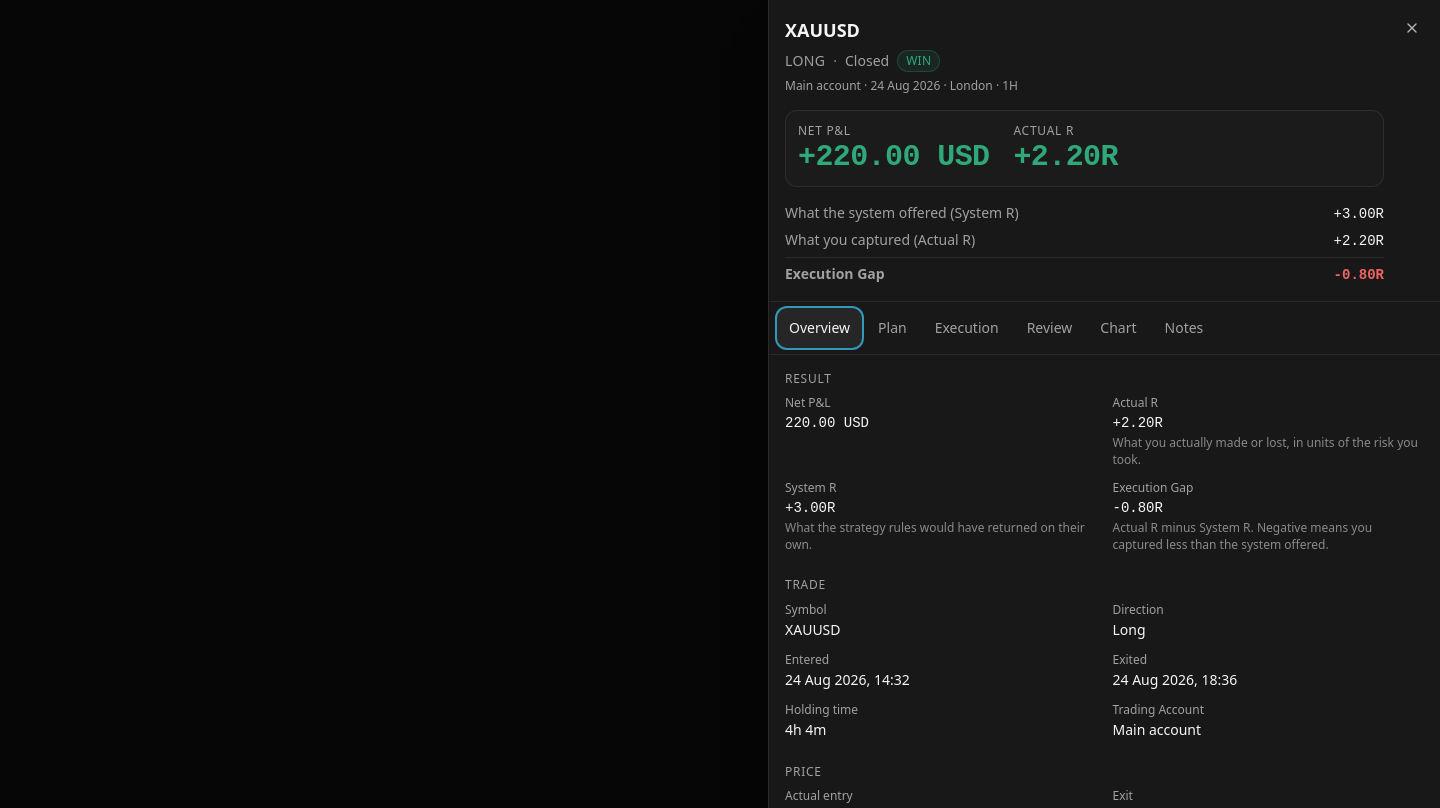
Trade Details — Chart and Notes › says what a Chart tab would hold when there is nothing attached
The image size is (1440, 808).
Click the tab "Chart": (1118, 328) [1088, 308, 1148, 348]
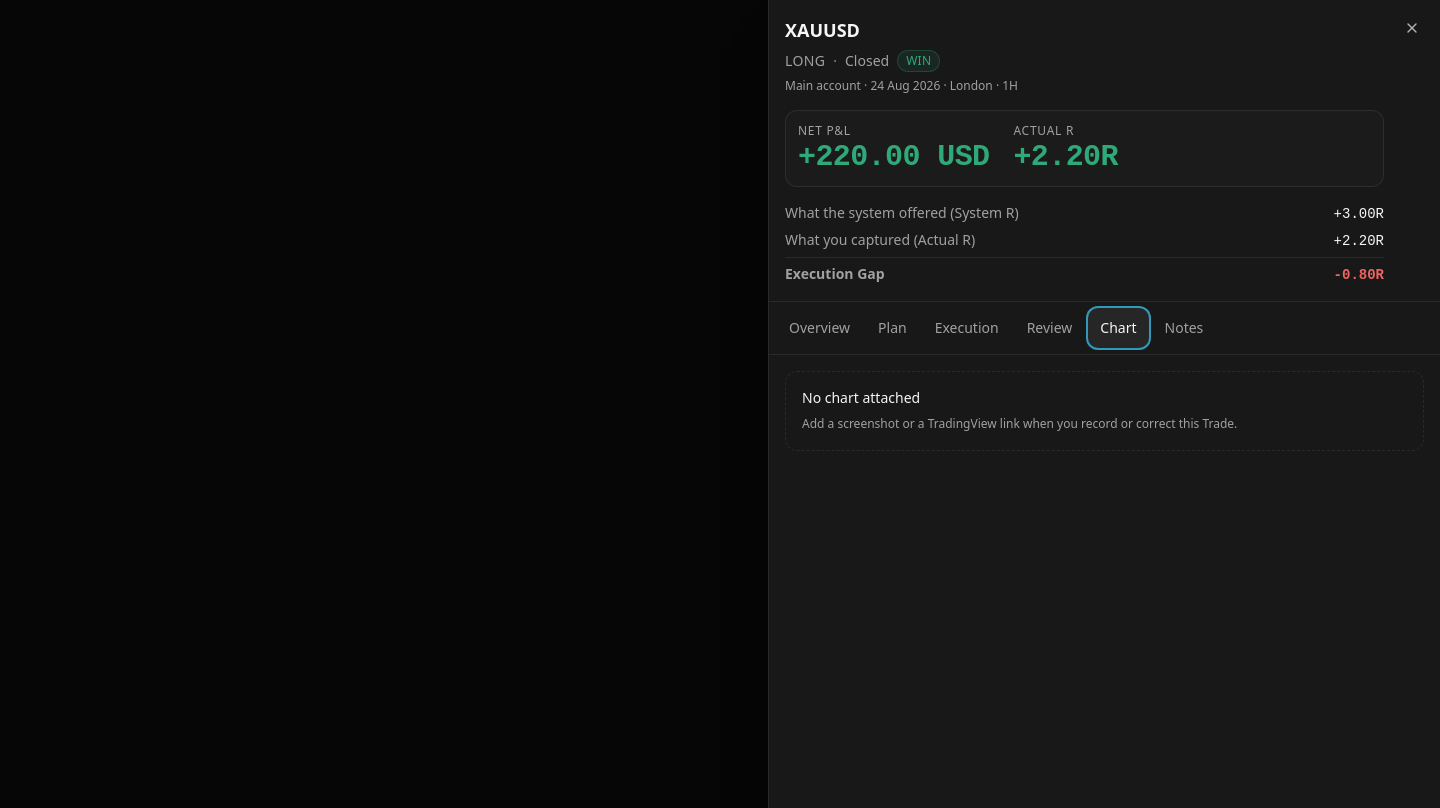
expect the text "No chart attached" is shown: met, box [802, 388, 920, 408]
